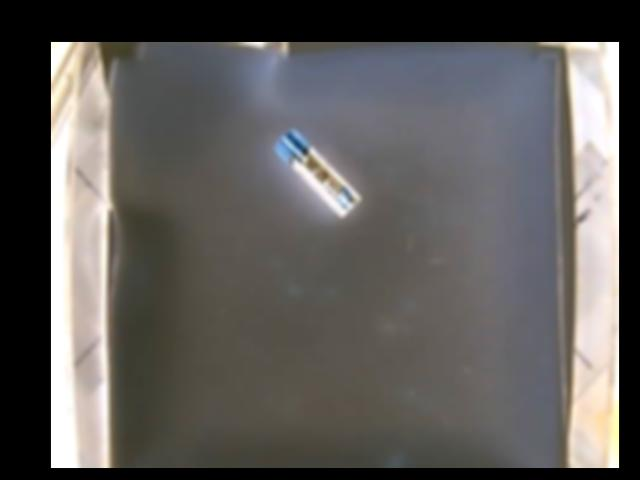Battery: (273, 128, 362, 217)
